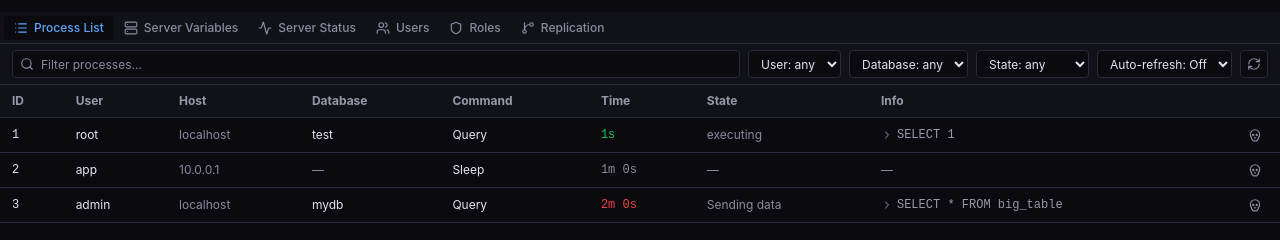
Scenario: ProcessListTab › offers only Kill connection for an idle session (#833)
This screenshot has width=1280, height=240.
Process 2 is a Sleep session with no statement.
Click the button titled "Kill process 2": (1255, 170) [1244,159,1266,181]
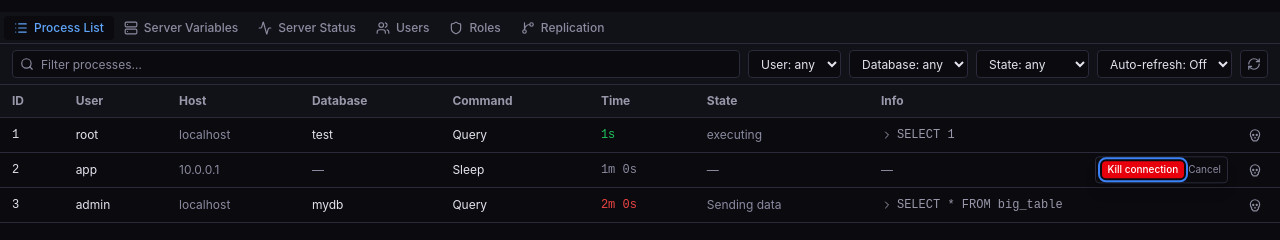
Result: the button "Kill connection" is shown at [1102,161,1184,179]
